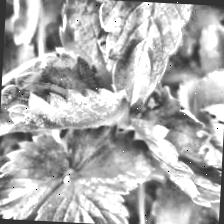Powdery Mildew Leaf: (0, 46, 133, 145), (123, 79, 224, 207), (31, 174, 133, 224), (3, 0, 94, 50)
